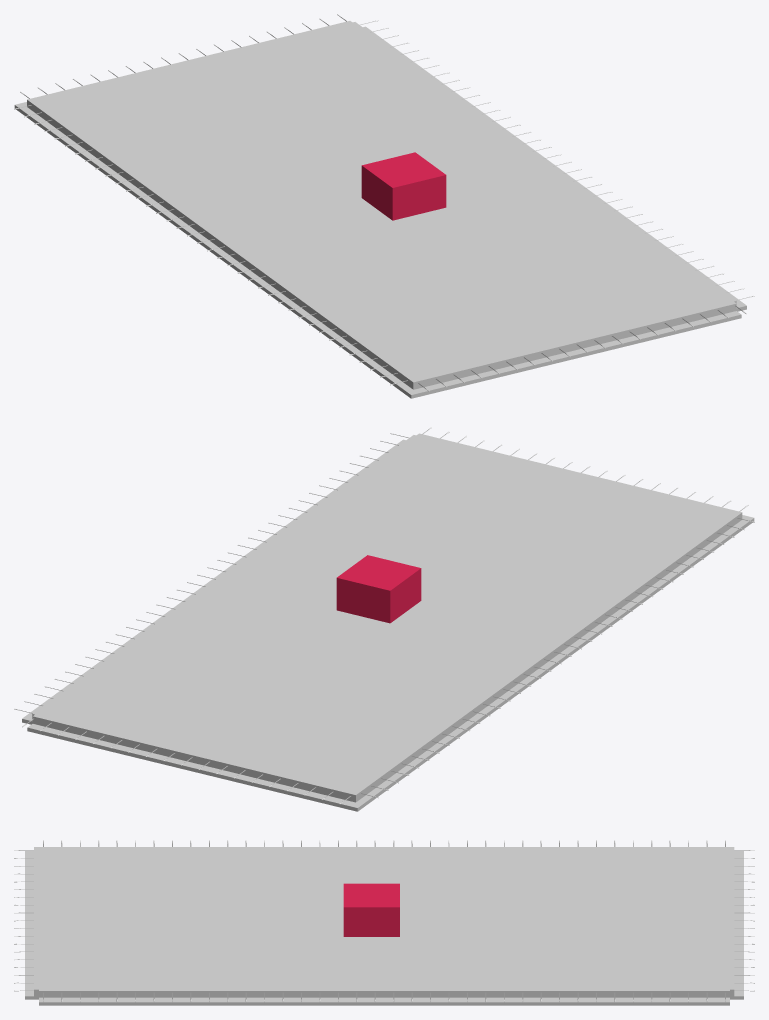
3 views of the same model, one above another, from view 1: azimuth 30°, elevation 25°; view 2: azimuth 150°, elevation 25°; view 3: azimuth 270°, elevation 25° (orthographic). The views are drawn at different scales.
Visible parts, largest first — view 1: 预制楼板.24, Cube, 钢筋 - HRB400.25; view 2: 预制楼板.24, Cube, 钢筋 - HRB400.25; view 3: 预制楼板.24, Cube, 钢筋 - HRB400.25.
Boxes of the visible parts, left/top/right/bottom form: 预制楼板.24: left=14, top=21, right=746, bottom=398; Cube: left=361, top=152, right=446, bottom=220; 钢筋 - HRB400.25: left=14, top=14, right=754, bottom=391; 预制楼板.24: left=22, top=433, right=754, bottom=811; Cube: left=336, top=555, right=421, bottom=623; 钢筋 - HRB400.25: left=14, top=427, right=754, bottom=804; 预制楼板.24: left=25, top=847, right=743, bottom=1005; Cube: left=343, top=883, right=399, bottom=936; 钢筋 - HRB400.25: left=14, top=840, right=754, bottom=1002.
Bounding box in the file's own units: 13.57 × 2 × 26.38.
